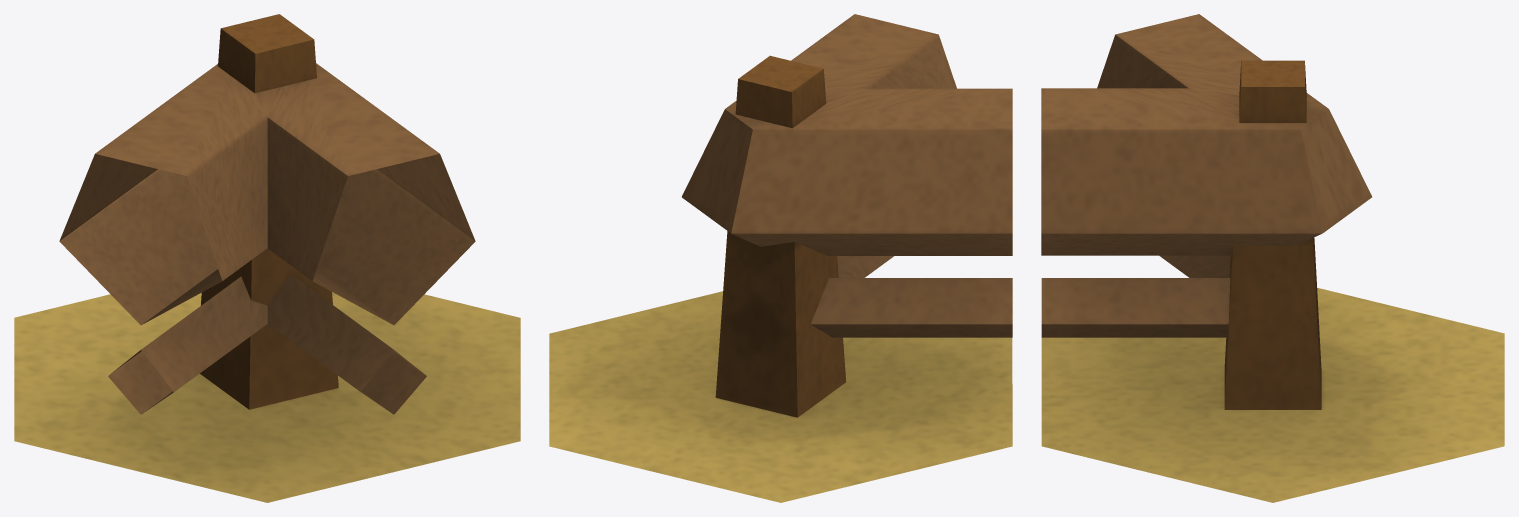
Rendered from BarriereDesert_L2.FBX.
3 views of the same model, side by side, from view 1: azimuth 30°, elevation 25°; view 2: azimuth 150°, elevation 25°; view 3: azimuth 270°, elevation 25° (orthographic). The views are drawn at different scales.
Visible parts, largest first — view 1: BarriereDesert_L2; view 2: BarriereDesert_L2; view 3: BarriereDesert_L2.
Boxes of the visible parts, left/top/right/bottom form: BarriereDesert_L2: left=14, top=14, right=520, bottom=502; BarriereDesert_L2: left=549, top=14, right=1012, bottom=502; BarriereDesert_L2: left=1041, top=14, right=1504, bottom=502.
Size of the model in its own units: 1 by 0.6525 by 0.8661.
